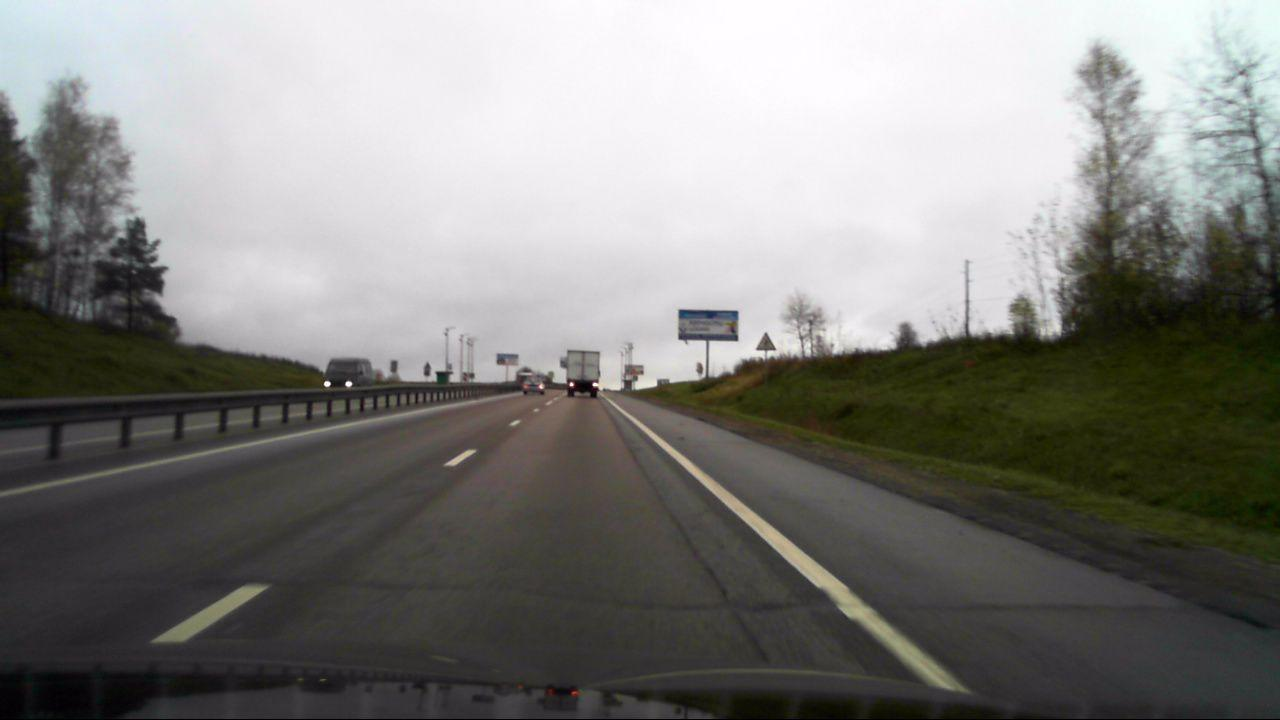1_22: (755, 331, 775, 351)
